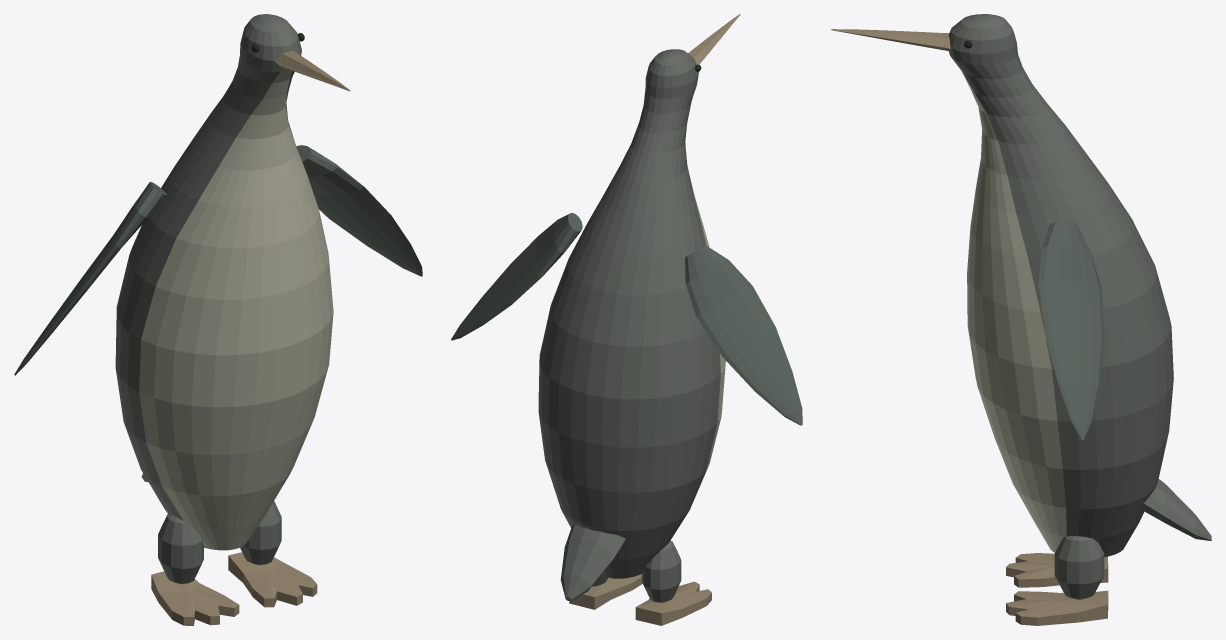
3 renders of one model, left to right at view 1: azimuth 30°, elevation 25°; view 2: azimuth 150°, elevation 25°; view 3: azimuth 270°, elevation 25°, orthographic. The views are drawn at different scales.
Visible parts, largest first — view 1: continuous-body-neck-head, left-broad-flat-paddle, right-broad-flat-paddle, left-webbed-foot, right-webbed-foot, right-short-shank, left-short-shank, upper-spear-bill; view 2: continuous-body-neck-head, right-broad-flat-paddle, left-broad-flat-paddle, short-wedge-tail, right-webbed-foot, right-short-shank, left-webbed-foot, upper-spear-bill; view 3: continuous-body-neck-head, left-broad-flat-paddle, left-webbed-foot, left-short-shank, short-wedge-tail, right-webbed-foot, upper-spear-bill.
Boxes of the visible parts, left/top/right/bottom form: continuous-body-neck-head: left=115, top=14, right=333, bottom=550; left-broad-flat-paddle: left=296, top=145, right=422, bottom=276; right-broad-flat-paddle: left=14, top=181, right=166, bottom=375; left-webbed-foot: left=228, top=552, right=317, bottom=607; right-webbed-foot: left=151, top=571, right=239, bottom=625; right-short-shank: left=158, top=513, right=203, bottom=584; left-short-shank: left=240, top=501, right=281, bottom=565; upper-spear-bill: left=276, top=50, right=349, bottom=90; continuous-body-neck-head: left=538, top=49, right=725, bottom=578; right-broad-flat-paddle: left=685, top=245, right=802, bottom=425; left-broad-flat-paddle: left=451, top=212, right=582, bottom=340; short-wedge-tail: left=560, top=524, right=625, bottom=601; right-webbed-foot: left=635, top=581, right=711, bottom=625; right-short-shank: left=642, top=540, right=681, bottom=602; left-webbed-foot: left=569, top=574, right=642, bottom=609; upper-spear-bill: left=688, top=14, right=740, bottom=64; continuous-body-neck-head: left=948, top=14, right=1173, bottom=556; left-broad-flat-paddle: left=1038, top=221, right=1104, bottom=440; left-webbed-foot: left=1006, top=590, right=1108, bottom=625; left-short-shank: left=1054, top=536, right=1104, bottom=599; short-wedge-tail: left=1142, top=479, right=1211, bottom=540; right-webbed-foot: left=1006, top=553, right=1108, bottom=587; upper-spear-bill: left=831, top=29, right=950, bottom=48.
Size of the model in its own units: 0.7761 by 1.1 by 0.656.
